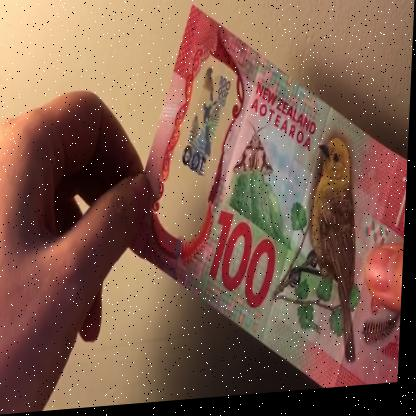100B: (174, 60, 236, 191)
